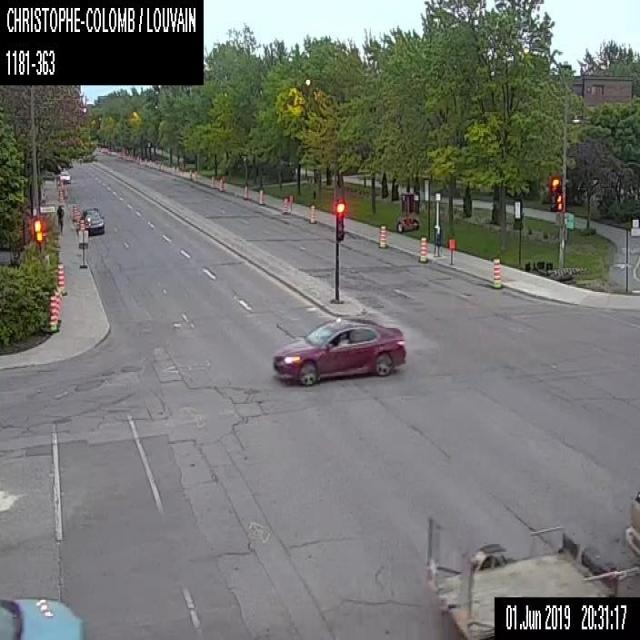construction: (395, 192, 420, 232), (77, 229, 88, 267), (54, 262, 66, 294), (48, 296, 58, 331), (492, 256, 502, 288), (53, 291, 60, 326), (378, 224, 387, 248), (54, 292, 61, 322), (418, 235, 426, 261), (448, 237, 456, 263), (309, 202, 315, 222), (75, 208, 80, 229), (258, 188, 264, 205), (218, 176, 224, 191), (58, 188, 63, 202), (242, 184, 247, 198), (72, 203, 76, 220), (283, 196, 287, 213), (289, 194, 292, 213), (210, 175, 214, 188), (79, 218, 84, 228), (188, 168, 192, 179), (193, 170, 197, 181), (63, 184, 66, 197)
pedestrian: (434, 222, 442, 255), (56, 203, 64, 233)
vehicle: (426, 488, 639, 639), (271, 313, 406, 387), (0, 592, 85, 638), (81, 204, 105, 236), (59, 170, 71, 182)
